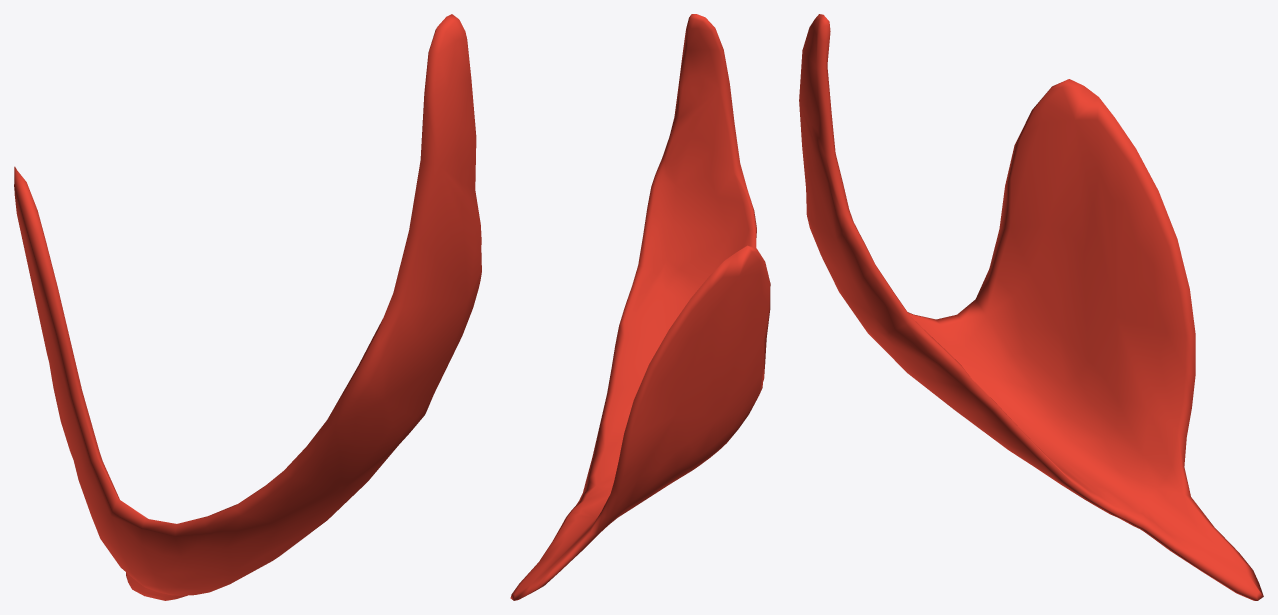
File: Sartorius_muscle_on_upper_anterior_iliac_spine.r_Generated_Mesh.glb
3 renders of one model, left to right at view 1: azimuth 30°, elevation 25°; view 2: azimuth 150°, elevation 25°; view 3: azimuth 270°, elevation 25°, orthographic. The views are drawn at different scales.
Parts seen in each view (by area): view 1: Sartorius_muscle_on_upper_anterior_iliac_spine.r_Generated_M; view 2: Sartorius_muscle_on_upper_anterior_iliac_spine.r_Generated_M; view 3: Sartorius_muscle_on_upper_anterior_iliac_spine.r_Generated_M.
Part boxes in pixels (bbox=[...]): Sartorius_muscle_on_upper_anterior_iliac_spine.r_Generated_M: bbox=[14, 14, 481, 600]; Sartorius_muscle_on_upper_anterior_iliac_spine.r_Generated_M: bbox=[510, 14, 770, 600]; Sartorius_muscle_on_upper_anterior_iliac_spine.r_Generated_M: bbox=[799, 14, 1263, 600].
Bounding box in the file's own units: 0.00929 × 0.0221 × 0.0161.
